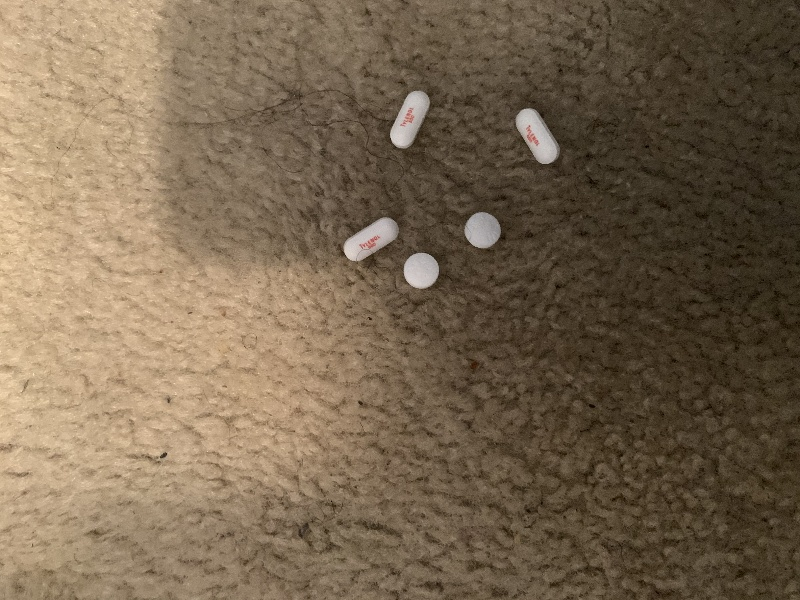Aspirin: (461, 203, 506, 257), (402, 246, 443, 295)
Tylenol: (509, 101, 567, 171), (385, 86, 433, 153), (340, 213, 401, 264)
